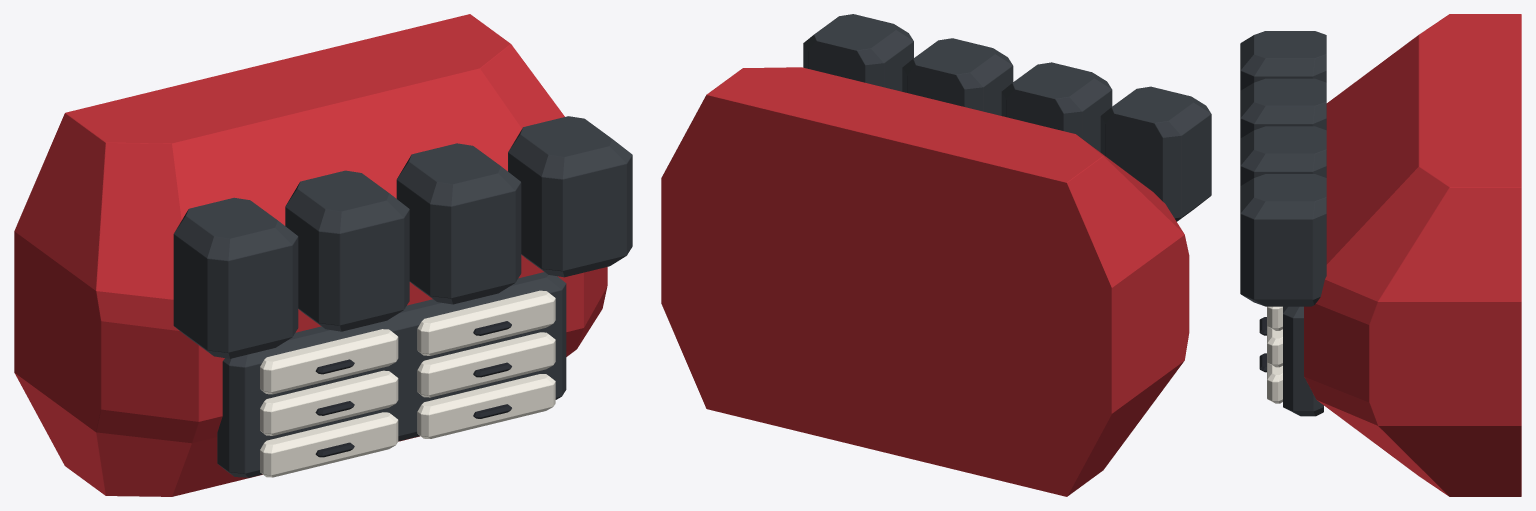
Rendered from HandFront_Set07_Salvo.fbx.
3 renders of one model, left to right at view 1: azimuth 30°, elevation 25°; view 2: azimuth 150°, elevation 25°; view 3: azimuth 270°, elevation 25°, orthographic. The views are drawn at different scales.
Parts seen in each view (by area): view 1: HandFront_Set07_Salvo; view 2: HandFront_Set07_Salvo; view 3: HandFront_Set07_Salvo.
Boxes of the visible parts, x1,y1,x2,y2 form: HandFront_Set07_Salvo: (14, 14, 632, 496); HandFront_Set07_Salvo: (661, 14, 1211, 496); HandFront_Set07_Salvo: (1240, 14, 1521, 496).
Size of the model in its own units: 0.3 by 0.2 by 0.1644.
